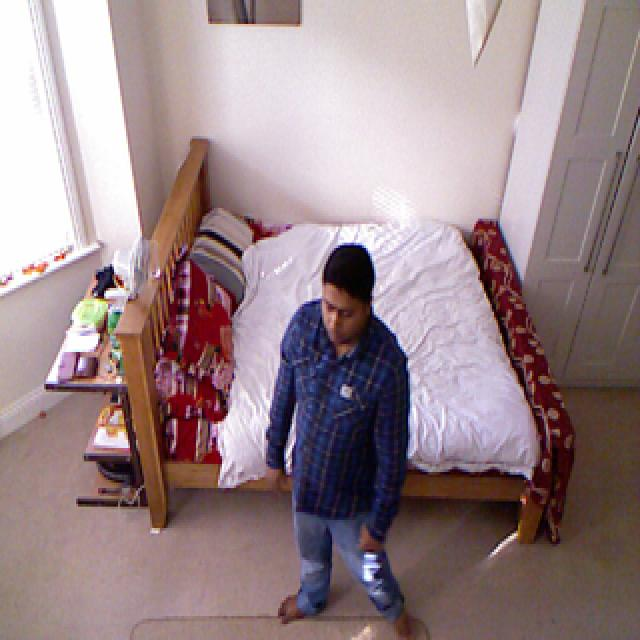standing: (262, 244, 411, 634)
